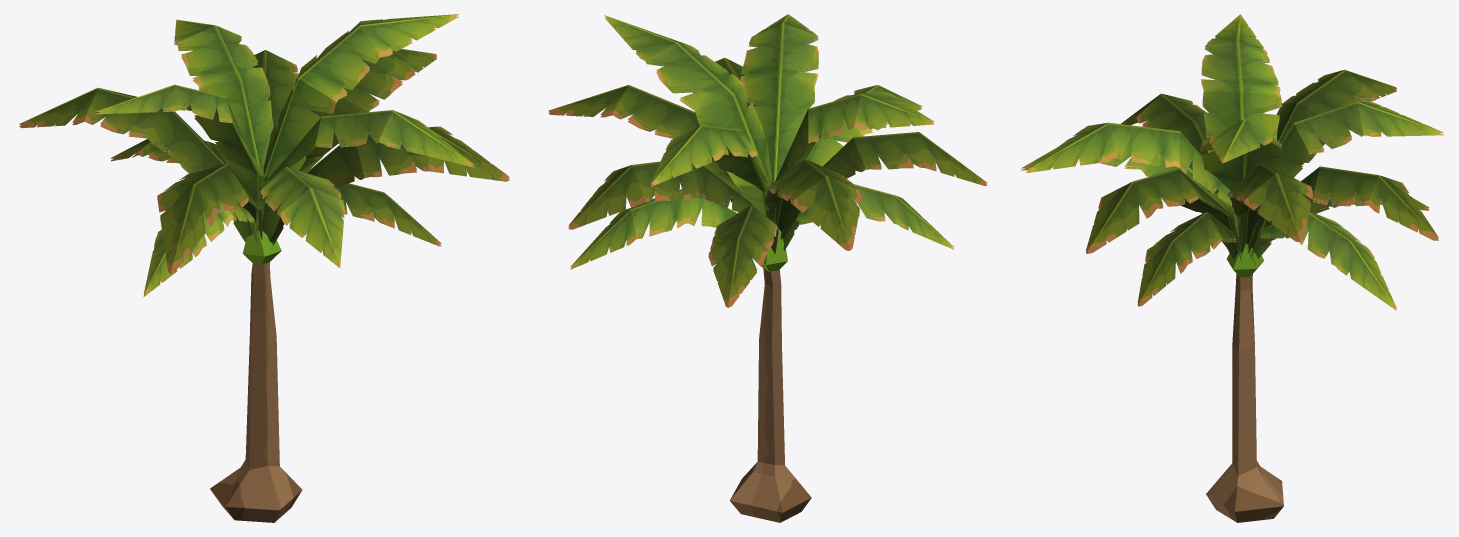
The model's file is M_shu01.fbx.
3 views of the same model, side by side, from view 1: azimuth 30°, elevation 25°; view 2: azimuth 150°, elevation 25°; view 3: azimuth 270°, elevation 25° (orthographic). The views are drawn at different scales.
Visible parts, largest first — view 1: M_shu01_02, M_shu01_01; view 2: M_shu01_02, M_shu01_01; view 3: M_shu01_02, M_shu01_01.
Part boxes in pixels (bbox=[...]): M_shu01_02: bbox=[19, 14, 509, 296]; M_shu01_01: bbox=[210, 262, 302, 522]; M_shu01_02: bbox=[548, 14, 987, 307]; M_shu01_01: bbox=[730, 268, 811, 522]; M_shu01_02: bbox=[1021, 14, 1443, 310]; M_shu01_01: bbox=[1206, 274, 1283, 522].
Size of the model in its own units: 4.94 by 5.83 by 5.08.
